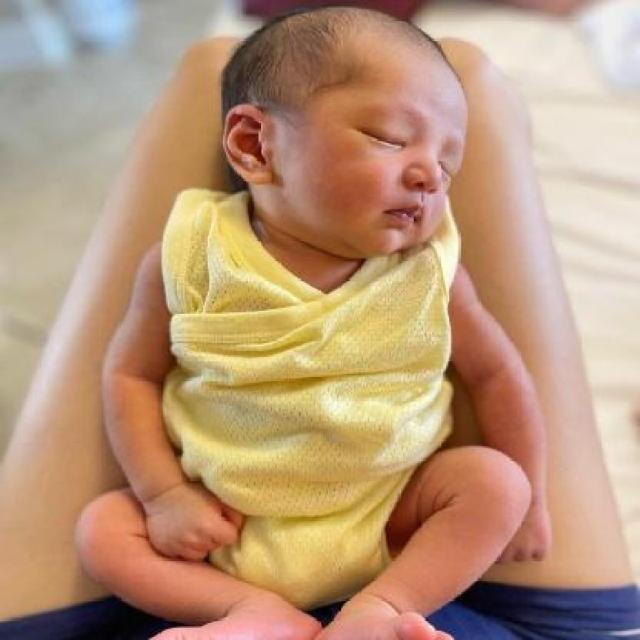baby: (76, 6, 546, 639)
